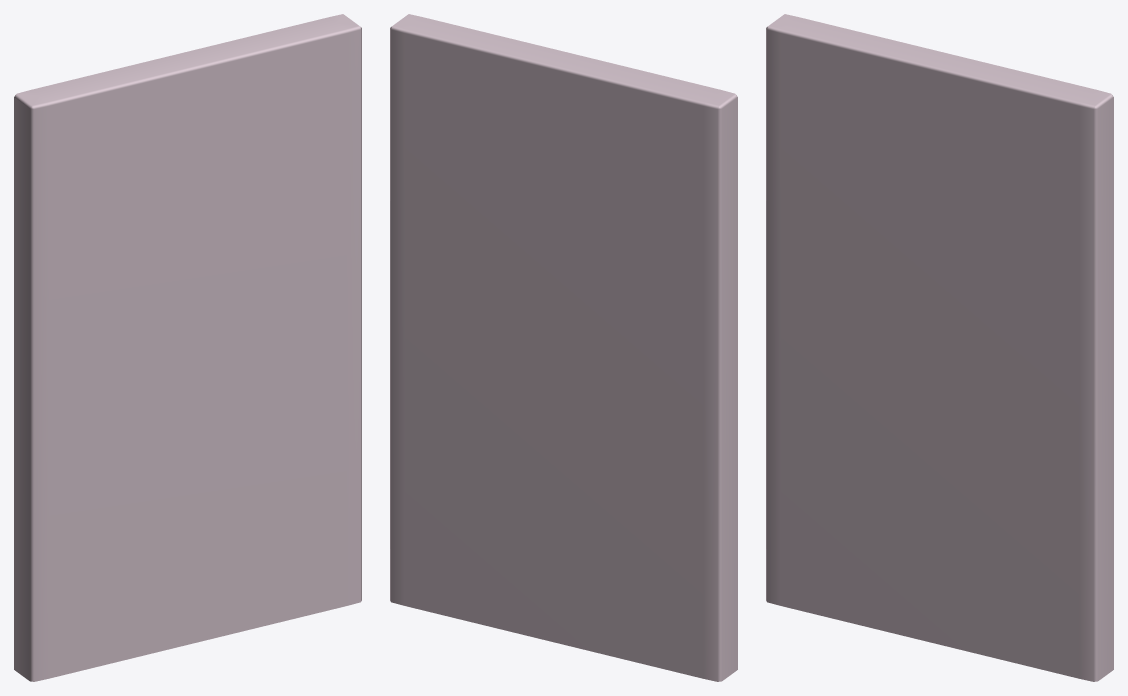
The model's file is mod_sc_roma_001_ar09_wall_006.FBX.
3 views of the same model, side by side, from view 1: azimuth 30°, elevation 25°; view 2: azimuth 150°, elevation 25°; view 3: azimuth 330°, elevation 25° (orthographic).
Parts seen in each view (by area): view 1: mod_sc_roma_001_ar09_wall_006; view 2: mod_sc_roma_001_ar09_wall_006; view 3: mod_sc_roma_001_ar09_wall_006.
Boxes of the visible parts, x1,y1,x2,y2 form: mod_sc_roma_001_ar09_wall_006: (14,14,361,681); mod_sc_roma_001_ar09_wall_006: (390,14,737,681); mod_sc_roma_001_ar09_wall_006: (766,14,1113,681).
Size of what is drawn, in the model's own units: 483 by 800 by 50.
